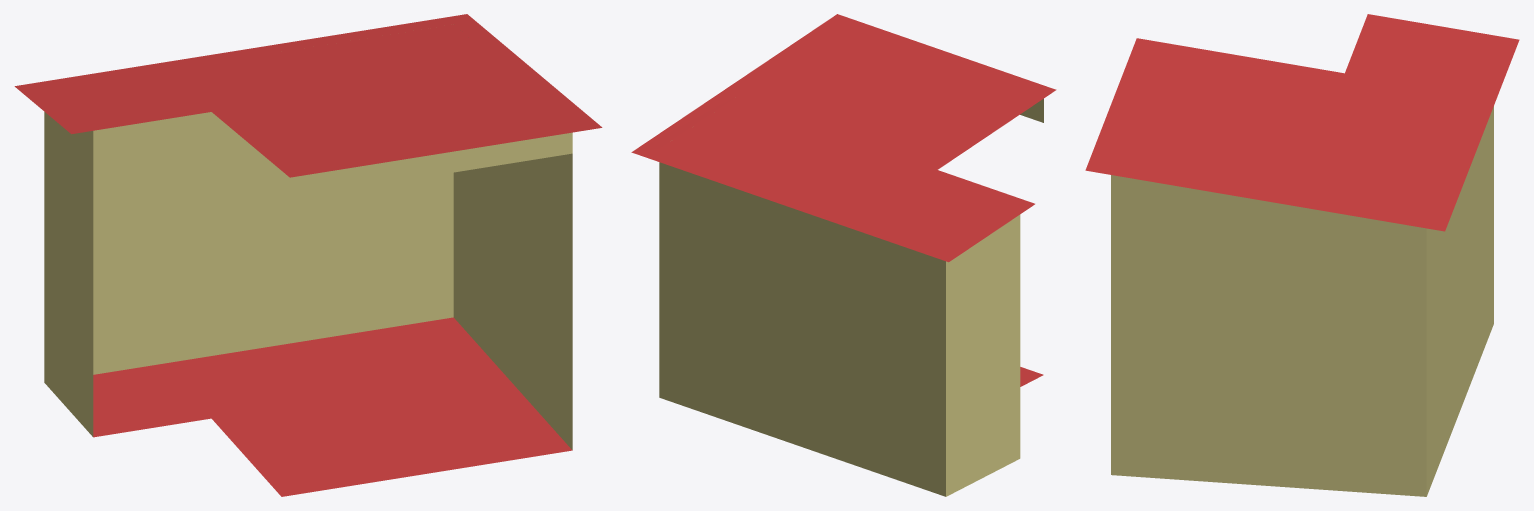
The picture shows the model from 3 angles, left to right: view 1: azimuth 30°, elevation 25°; view 2: azimuth 150°, elevation 25°; view 3: azimuth 270°, elevation 25°; orthographic projection. The views are drawn at different scales.
Bounding box in the file's own units: 10.77 × 9.77 × 7.75.
